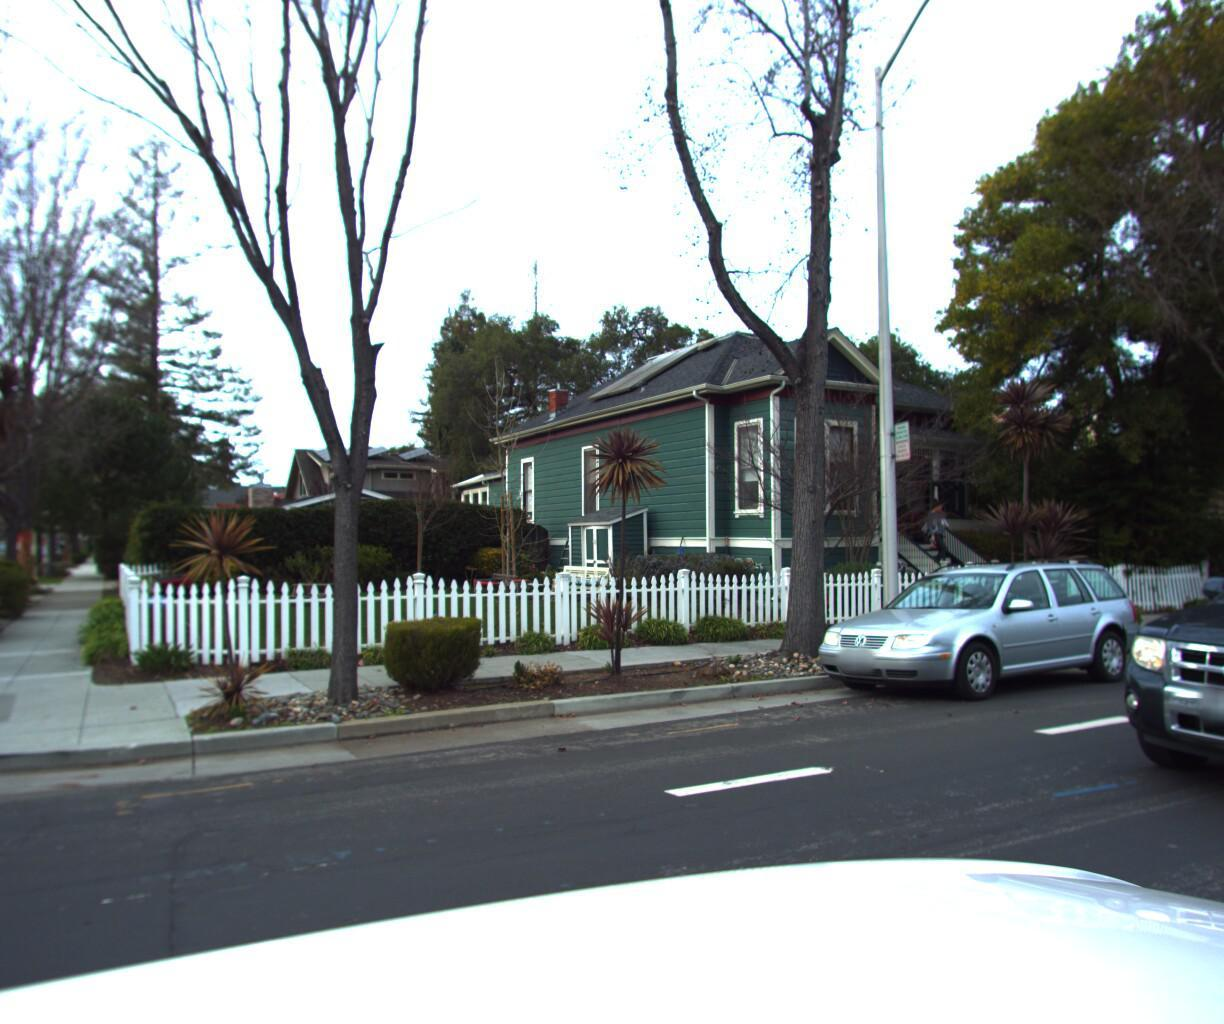car: (783, 554, 1164, 725), (1087, 502, 1224, 883)
